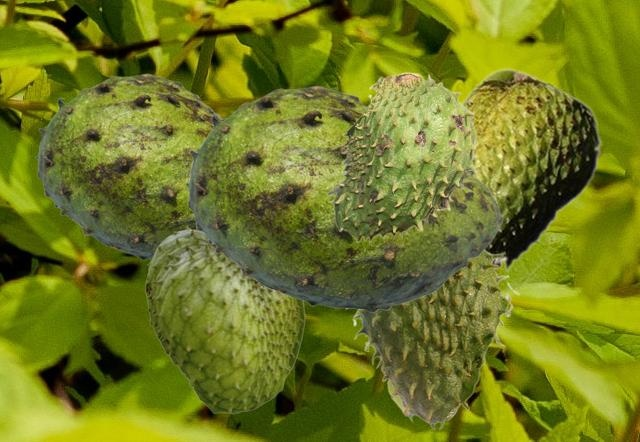guyabano: (185, 85, 502, 312), (35, 73, 224, 260), (345, 250, 519, 429), (145, 225, 304, 413), (461, 67, 601, 272), (326, 72, 477, 242)
